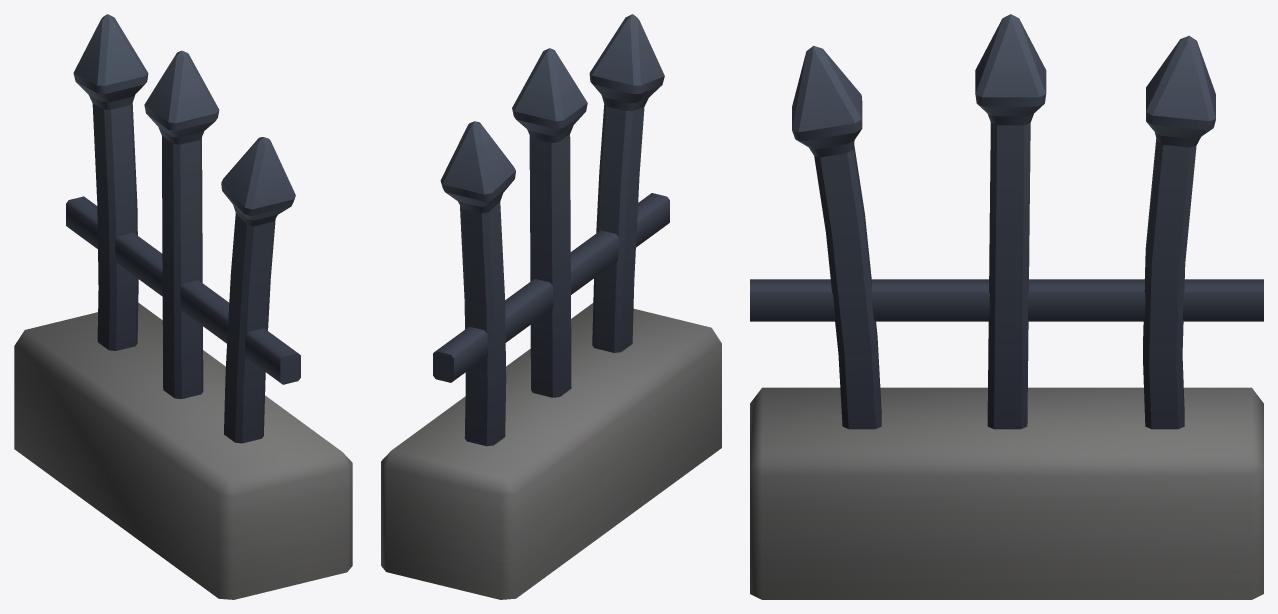
The model's file is Fence_2_1.obj.
3 views of the same model, side by side, from view 1: azimuth 30°, elevation 25°; view 2: azimuth 150°, elevation 25°; view 3: azimuth 270°, elevation 25° (orthographic). The views are drawn at different scales.
Parts seen in each view (by area): view 1: Fence_2_1; view 2: Fence_2_1; view 3: Fence_2_1.
Part boxes in pixels (x1,y1,x2,y2): Fence_2_1: [14, 14, 352, 599]; Fence_2_1: [381, 14, 721, 599]; Fence_2_1: [750, 14, 1263, 599].
Size of the model in its own units: 0.3514 by 1.14 by 0.9745.
